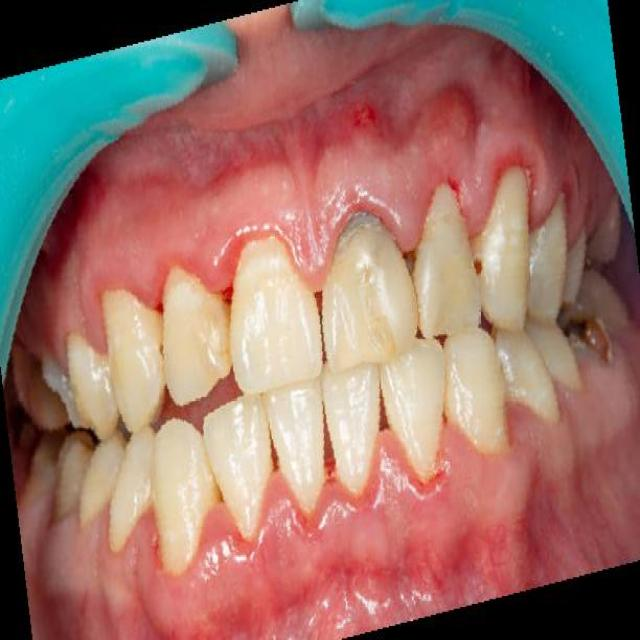caries: (566, 306, 616, 375), (397, 233, 422, 285), (466, 243, 494, 285)
